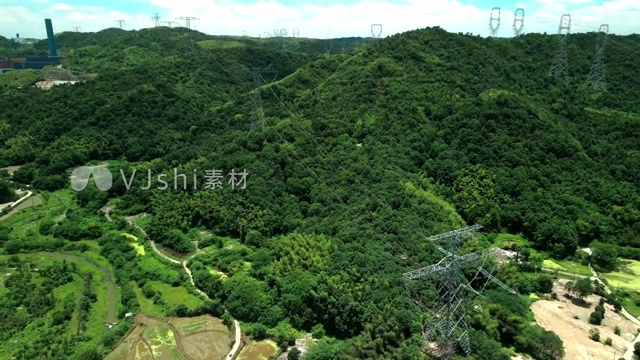tower_body: (402, 212, 487, 360), (236, 64, 279, 139)
tower_foot: (424, 320, 471, 357)
tower_head: (420, 216, 484, 244)
